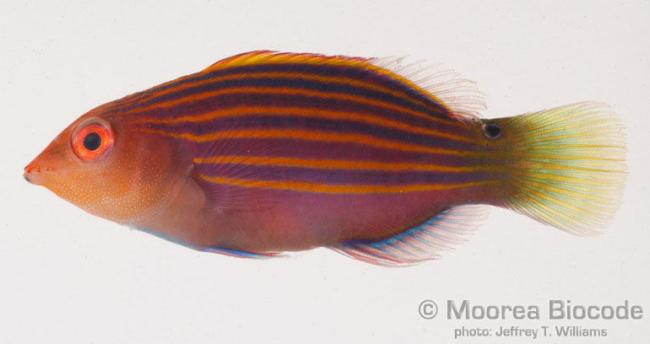fish: (23, 50, 629, 266)
